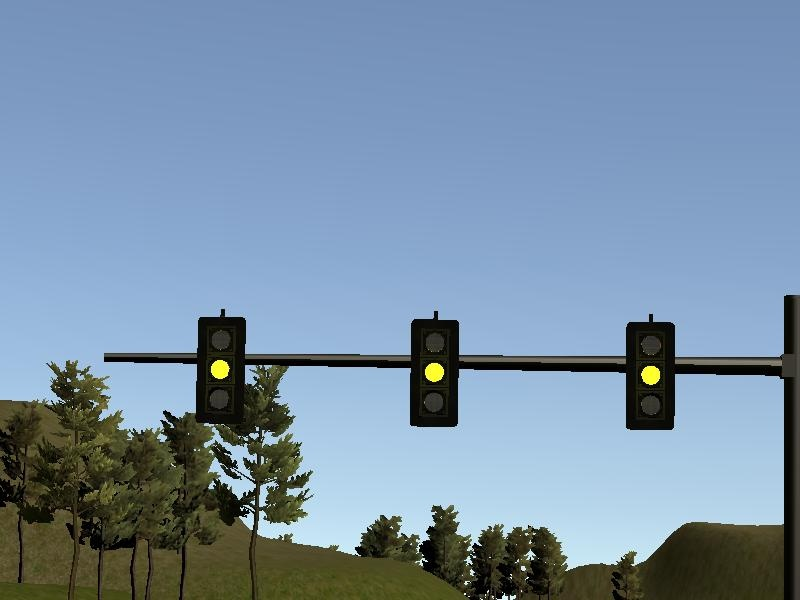YELLOW: (193, 314, 246, 424), (406, 318, 459, 428), (623, 320, 676, 430)
